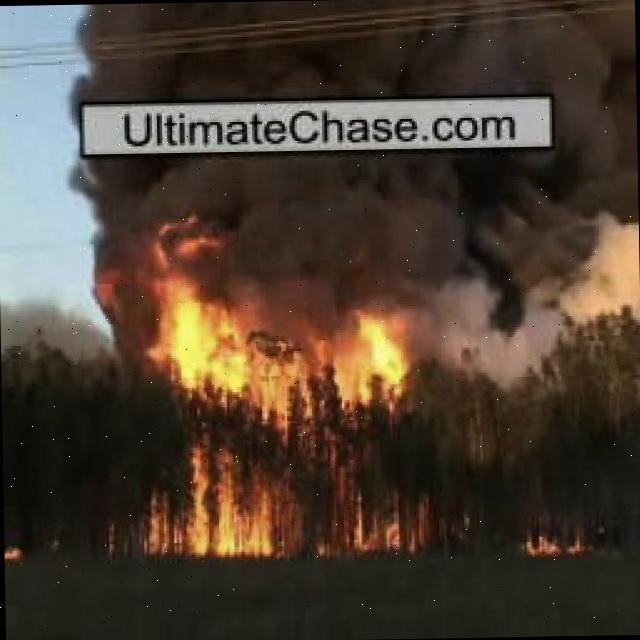fire: (112, 208, 420, 560), (517, 528, 602, 554)
